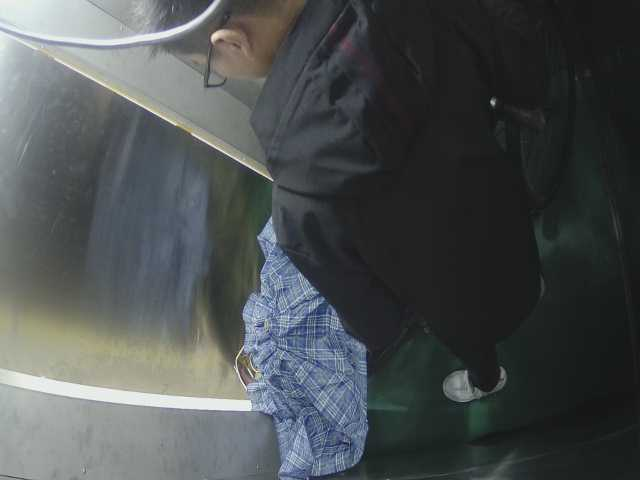person: (135, 1, 538, 405)
